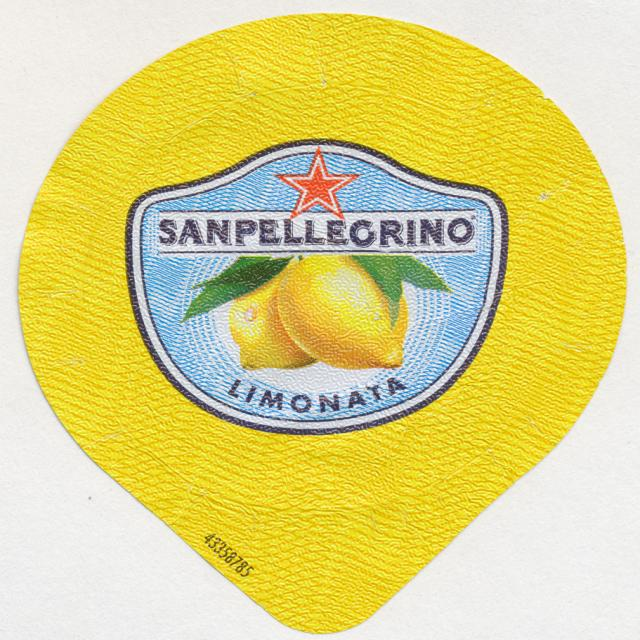Lemon: (279, 256, 410, 371), (232, 264, 317, 368)
